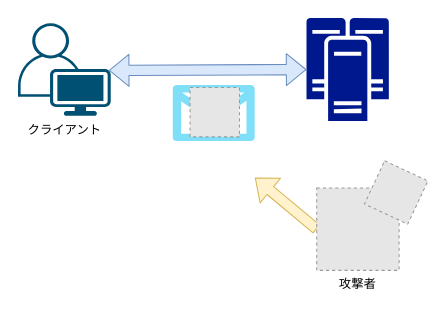
This 446x309 diagram has some shape labels left out. Grey dashed boxes stand in for pictures. Here are the shapes that lost their labels. From the top down, the box of each, then its label:
(306, 18, 388, 121): サーバ
(172, 84, 254, 140): クレジットカード情報 口座番号
